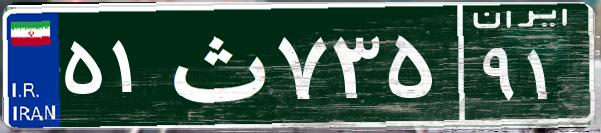1: (110, 28, 158, 105), (525, 38, 570, 115)
3: (330, 28, 385, 110)
5: (385, 28, 445, 110), (57, 26, 110, 107)
7: (273, 28, 330, 110)
9: (475, 38, 525, 113)
ث: (158, 15, 273, 115)
